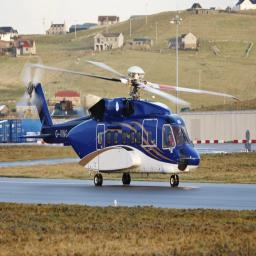helicopter: (12, 47, 242, 192)
